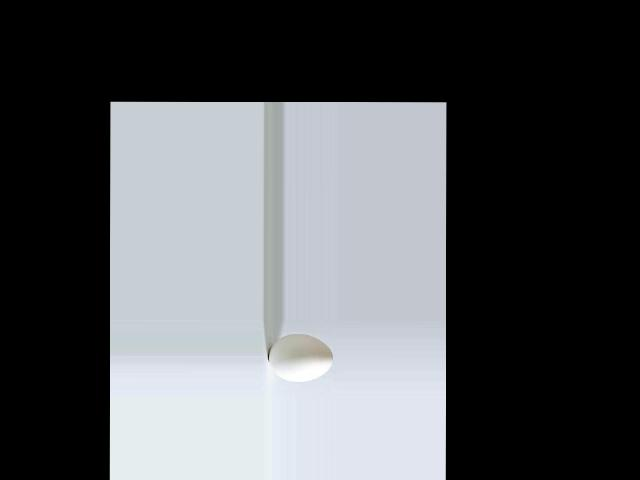egg: (268, 334, 333, 382)
